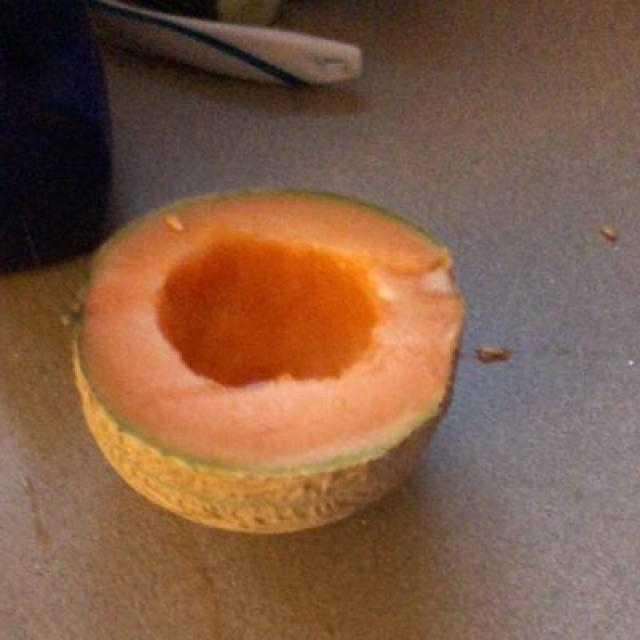melon: (76, 194, 452, 514)
